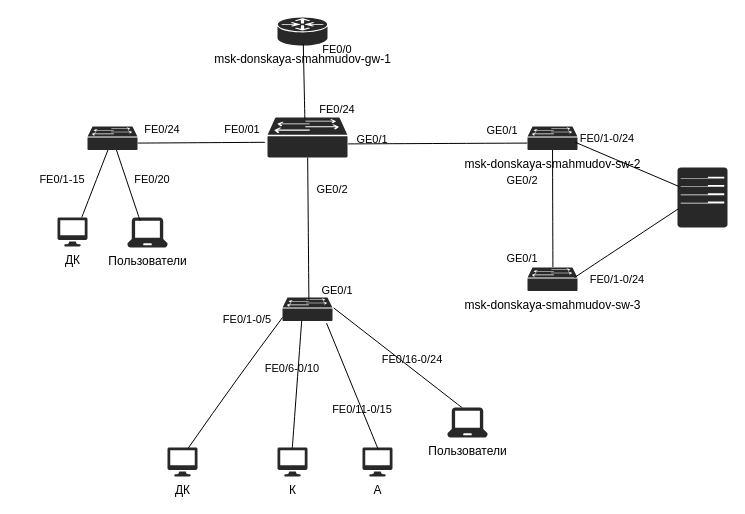
Some shapes in this 745 by 514 pixel diagram are drawn without their labels. Here are the shapes that lost their labels. From the top down, the centre of each, then its label:
point (112, 138): msk-pavlovskaya-smahmudov-sw-1
point (307, 137): msk-donskaya-smahmudov-sw-1
point (702, 197): Серверы
point (307, 308): msk-donskaya-smahmudov-sw-4
